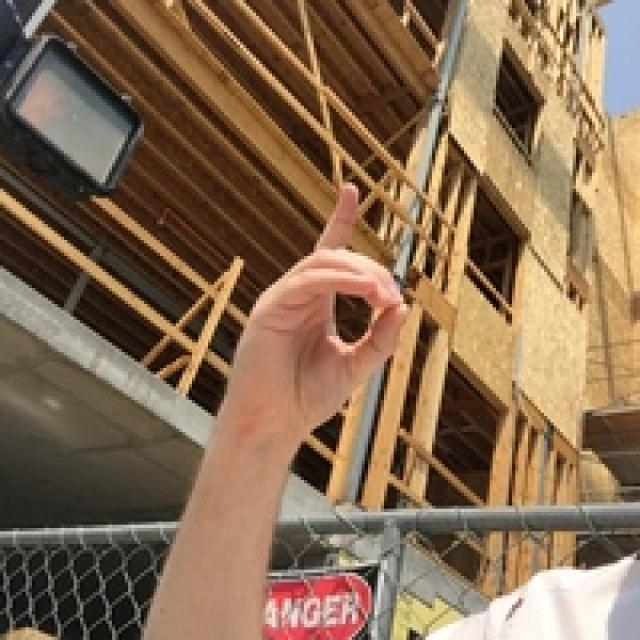D: (177, 147, 441, 470)
